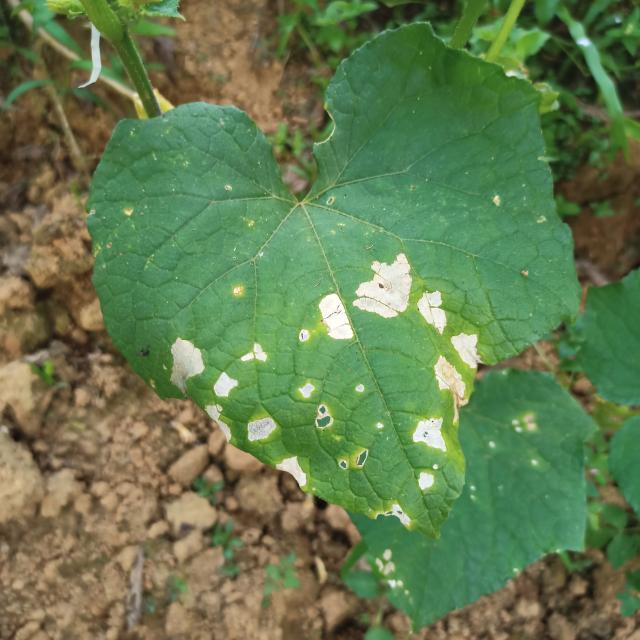disease_cucumber: (321, 249, 415, 345), (167, 335, 269, 403), (434, 330, 482, 401), (413, 414, 446, 494), (207, 404, 276, 442), (415, 285, 449, 338), (298, 381, 330, 432), (276, 453, 309, 490)
